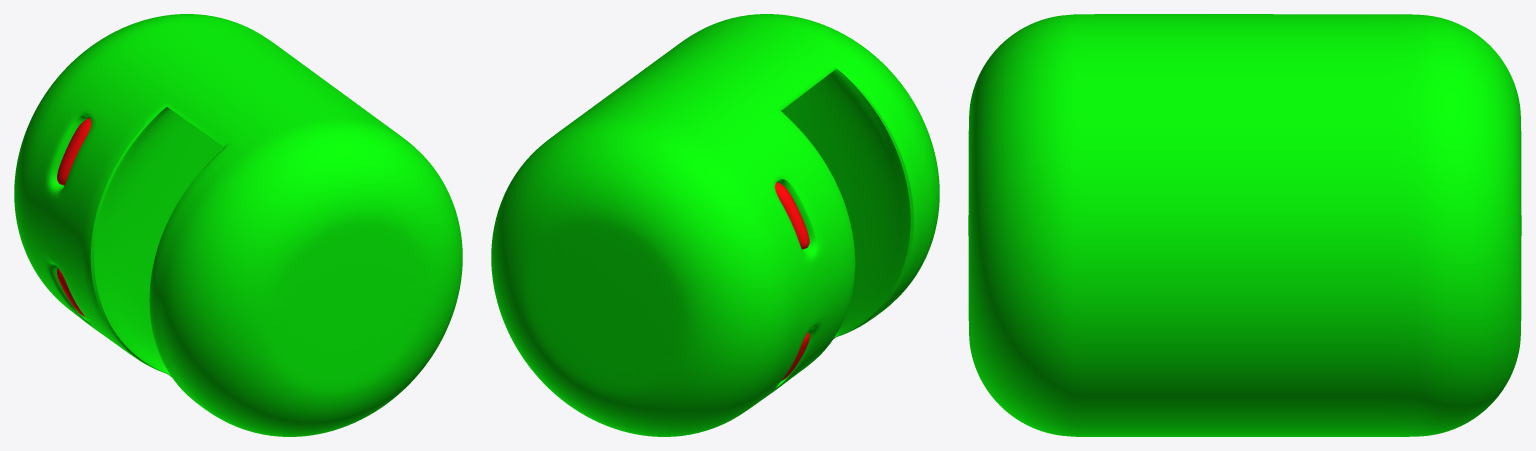
File: Enemy.fbx
3 views of the same model, side by side, from view 1: azimuth 30°, elevation 25°; view 2: azimuth 150°, elevation 25°; view 3: azimuth 270°, elevation 25° (orthographic). The views are drawn at different scales.
Visible parts, largest first — view 1: Enemy; view 2: Enemy; view 3: Enemy.
Part boxes in pixels (x1=…): Enemy: x1=14, y1=14, x2=462, y2=436; Enemy: x1=491, y1=14, x2=939, y2=436; Enemy: x1=968, y1=14, x2=1521, y2=436.
Bounding box in the file's own units: 1.3 × 0.9936 × 0.9936.
